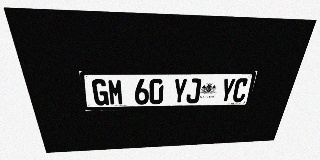0: (149, 79, 164, 104)
6: (134, 79, 149, 105)
C: (231, 78, 249, 102)
G: (91, 79, 109, 106)
J: (186, 78, 202, 103)
M: (107, 79, 124, 105)
Y: (219, 78, 236, 103), (172, 78, 188, 104)
